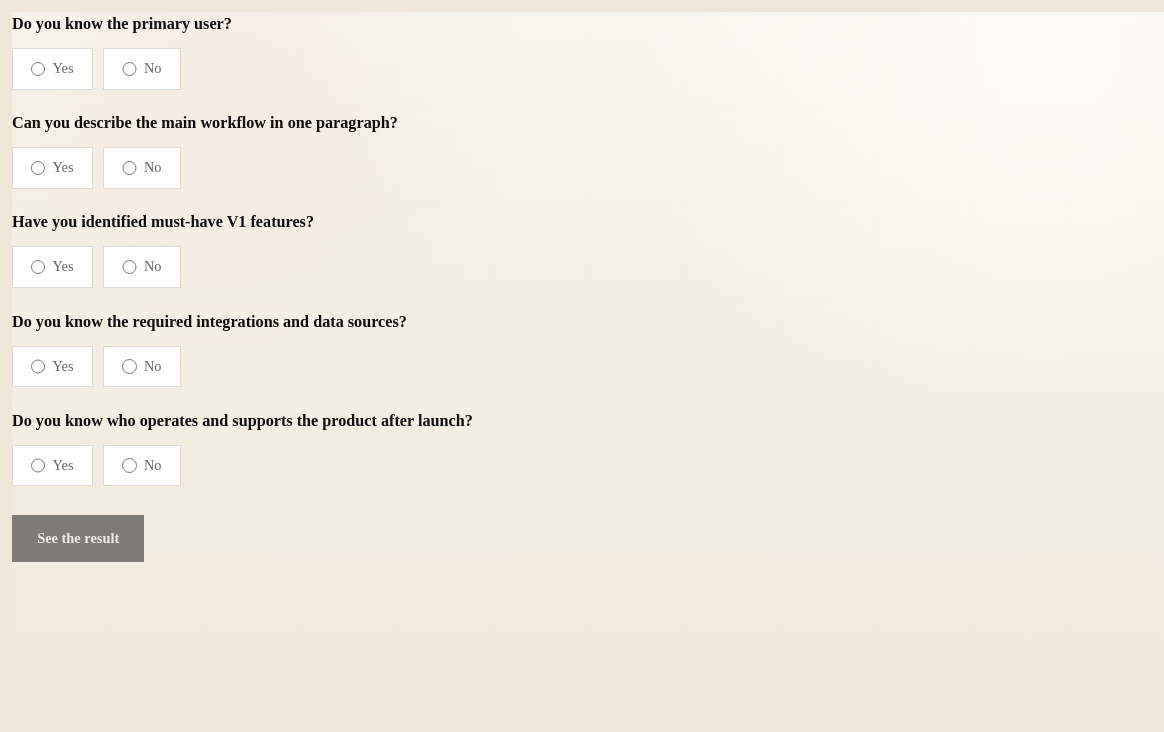
Scenario: ProjectReadinessTool › renders five questions and computes the deterministic result
The image size is (1164, 732).
Check: the number of radio buttons labelled "No" is 5, box x1=122 y1=62 x2=137 y2=76; x1=122 y1=161 x2=137 y2=175; x1=122 y1=260 x2=137 y2=274; x1=122 y1=359 x2=137 y2=374; x1=122 y1=458 x2=137 y2=473
Click the radio button labelled "Yes" below "Do you know the primary user?" at (38, 69), box x1=31 y1=62 x2=45 y2=76
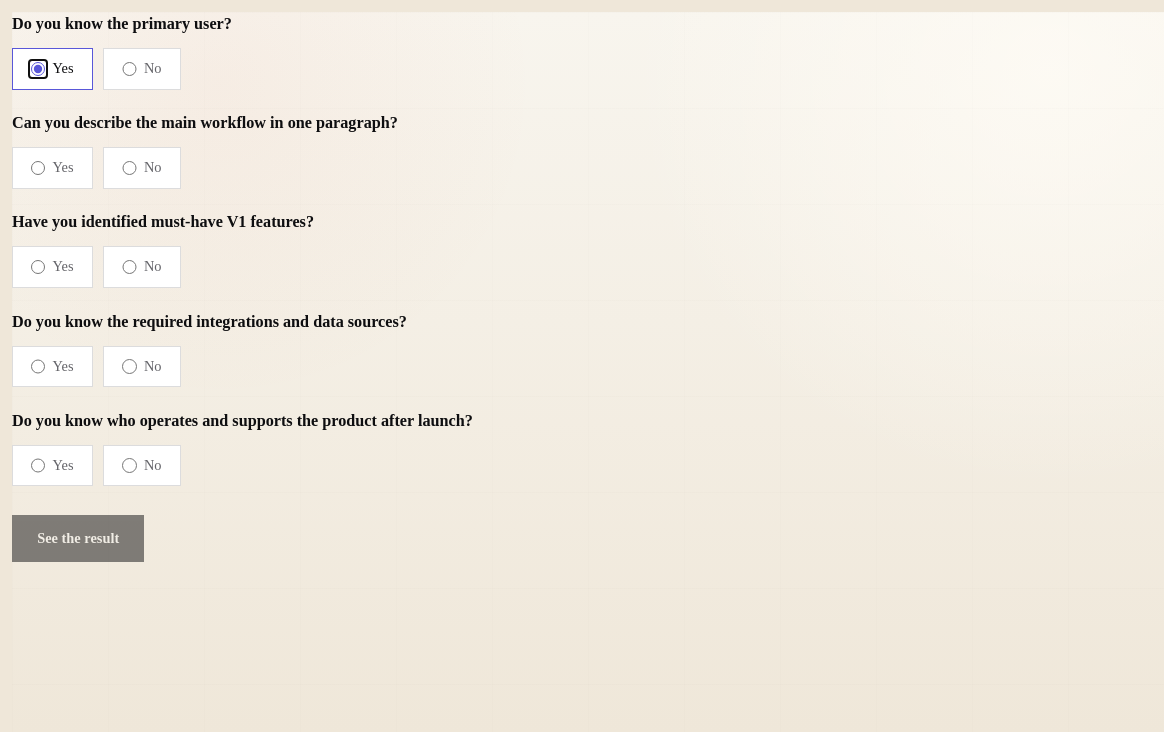
Click the 2nd radio button labelled "Yes" at (38, 168), box x1=31 y1=161 x2=45 y2=175
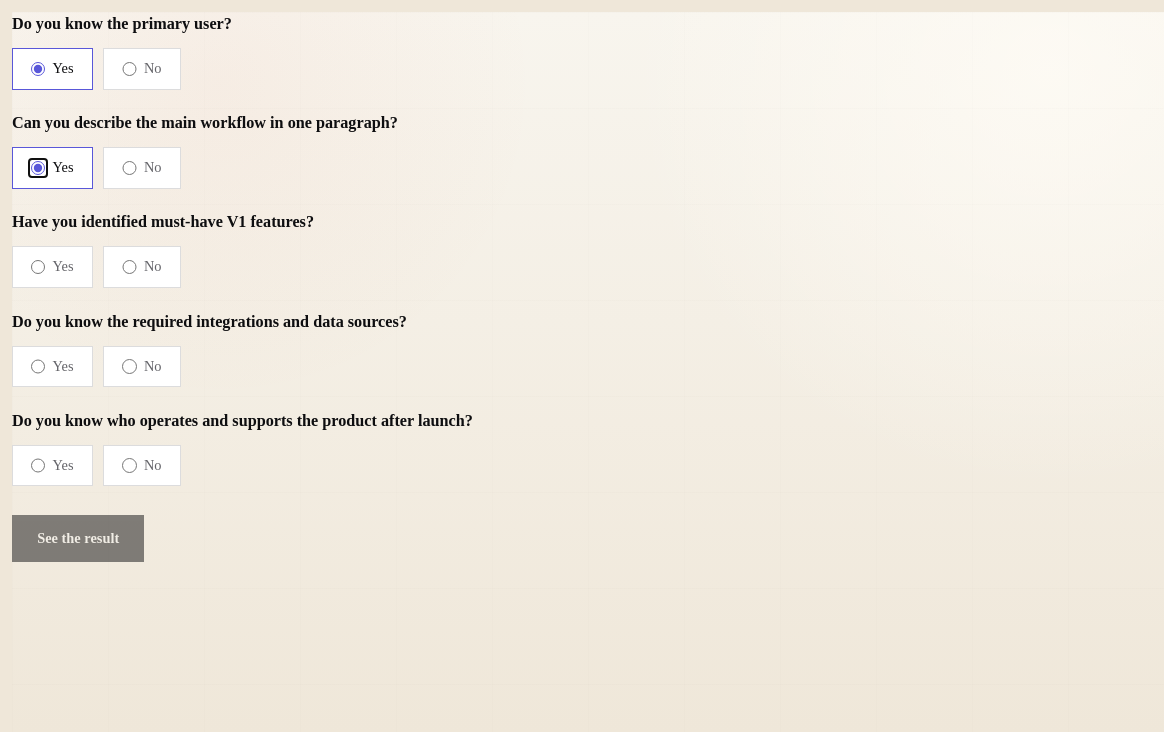
Click the 3rd radio button labelled "Yes" at (38, 267), box x1=31 y1=260 x2=45 y2=274
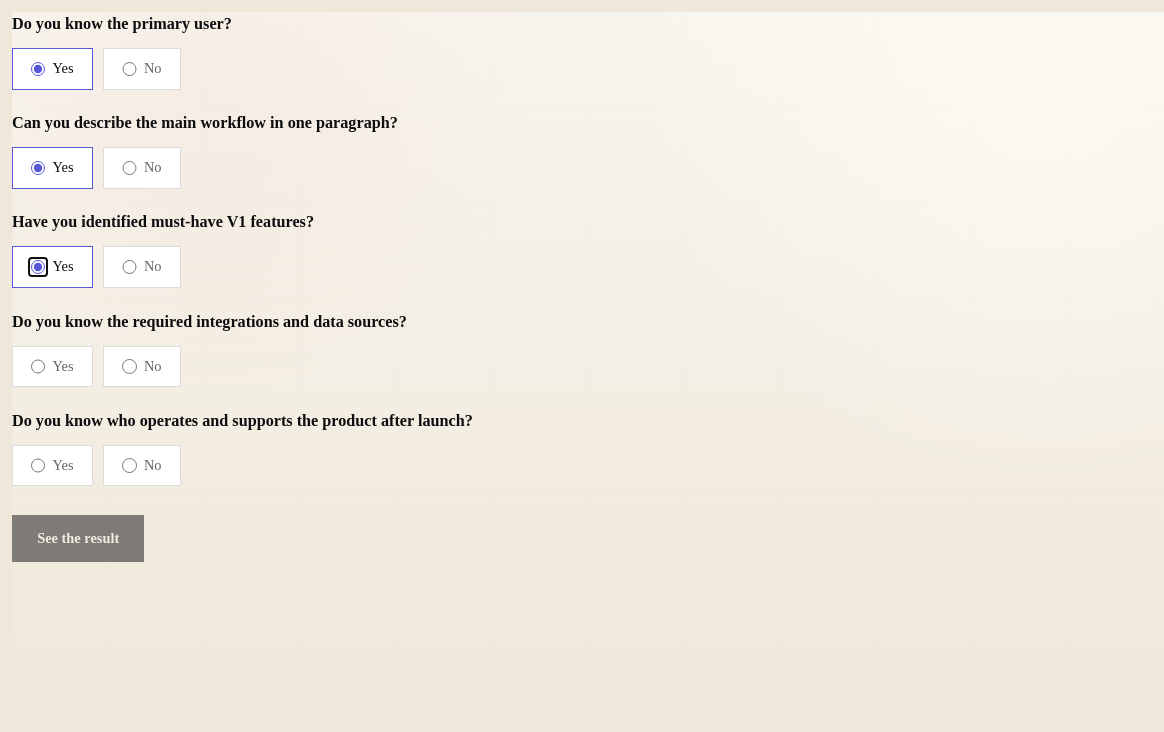
Click the 4th radio button labelled "Yes" at (38, 366), box x1=31 y1=359 x2=45 y2=374
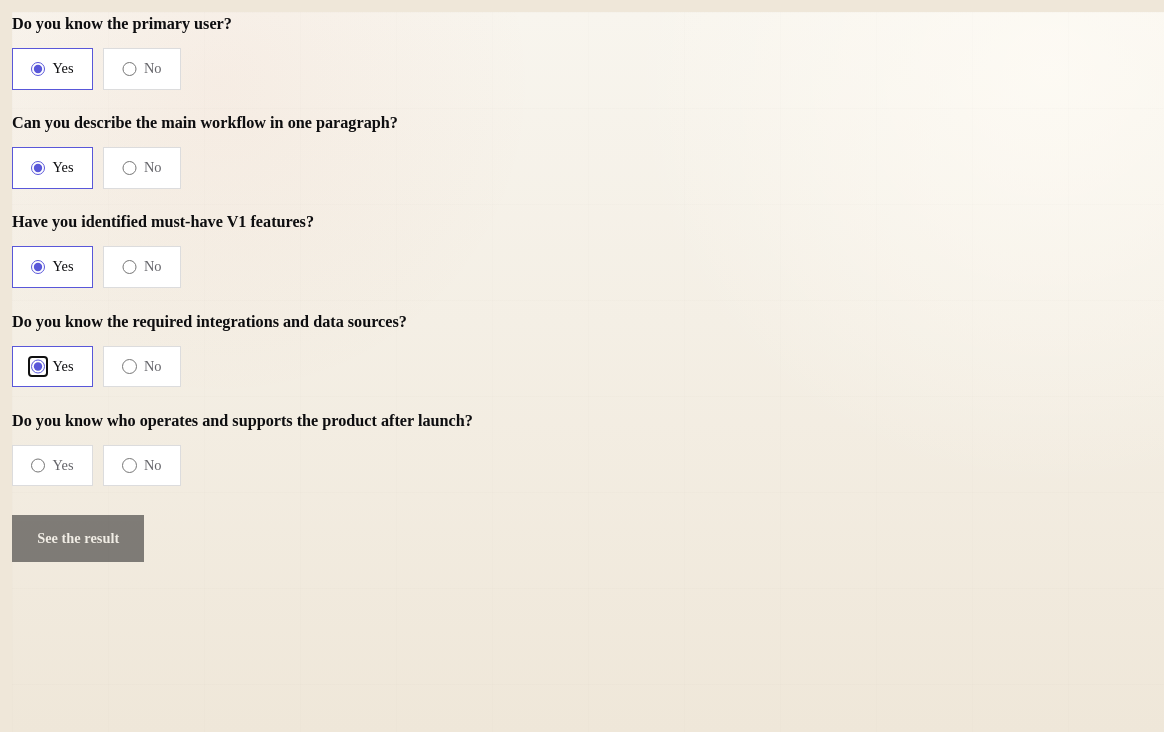
Click the 5th radio button labelled "Yes" at (38, 466), box x1=31 y1=458 x2=45 y2=473
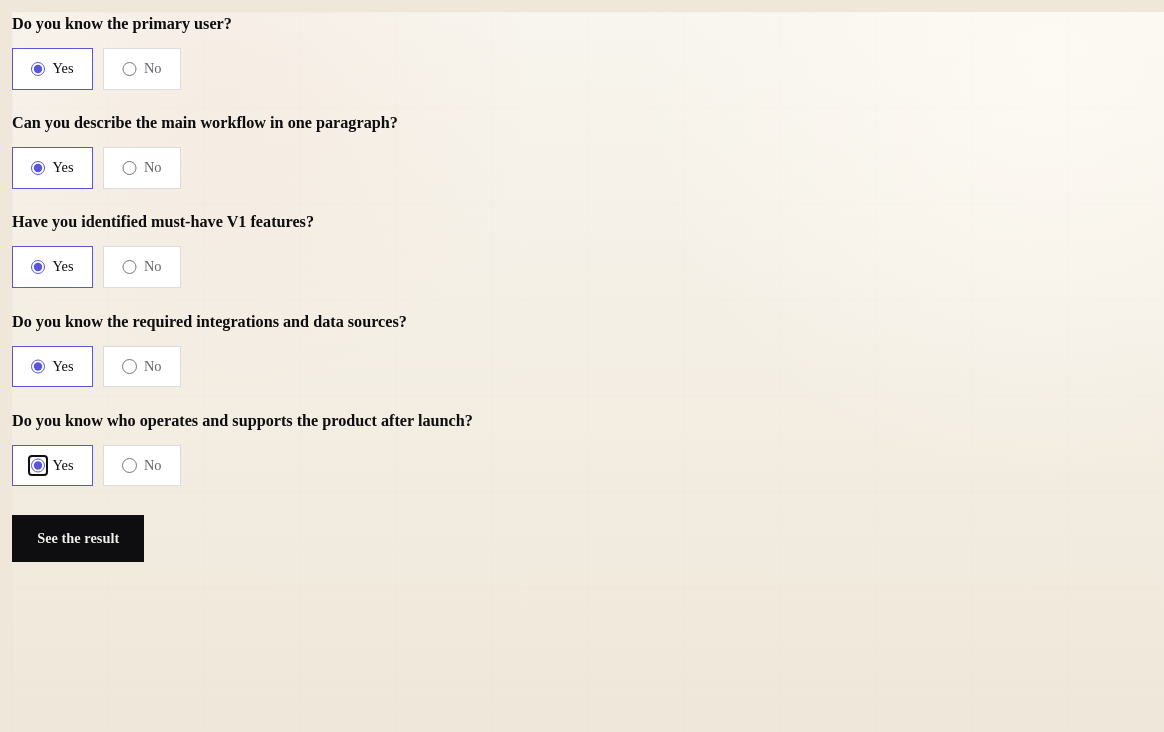
Click the button "See the result" at (78, 538), box x1=12 y1=515 x2=144 y2=562
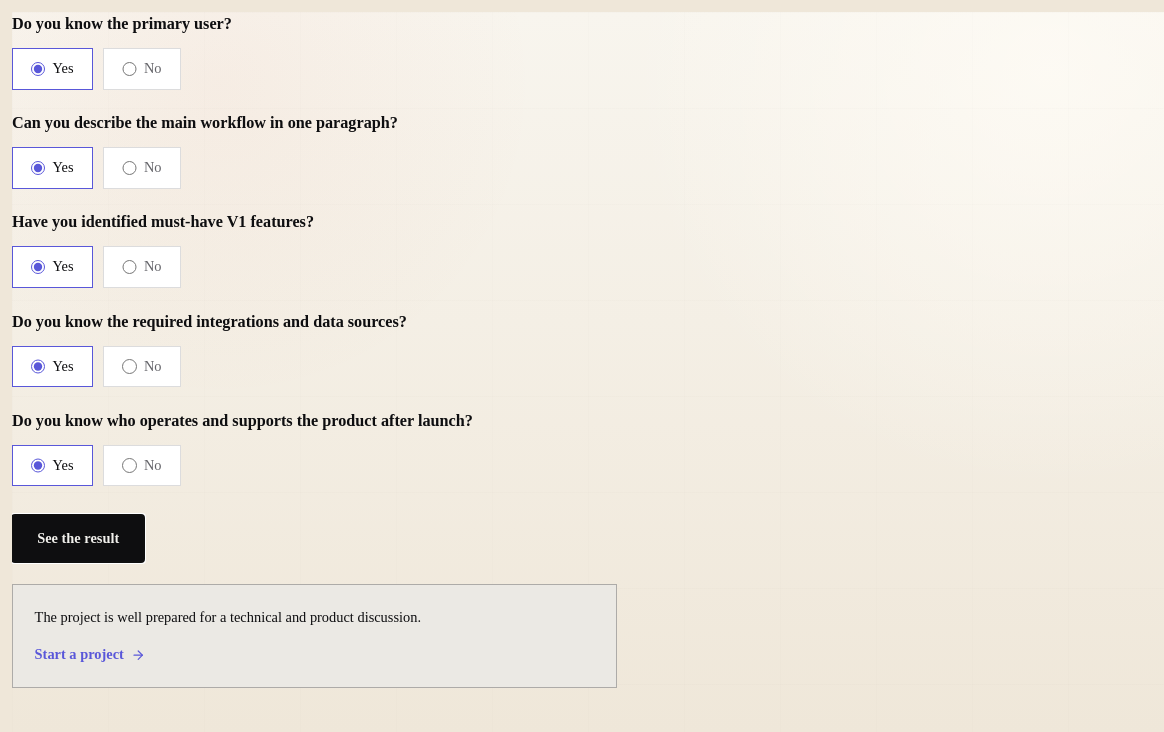
Check: the message shows "well prepared", box x1=35 y1=609 x2=421 y2=625
